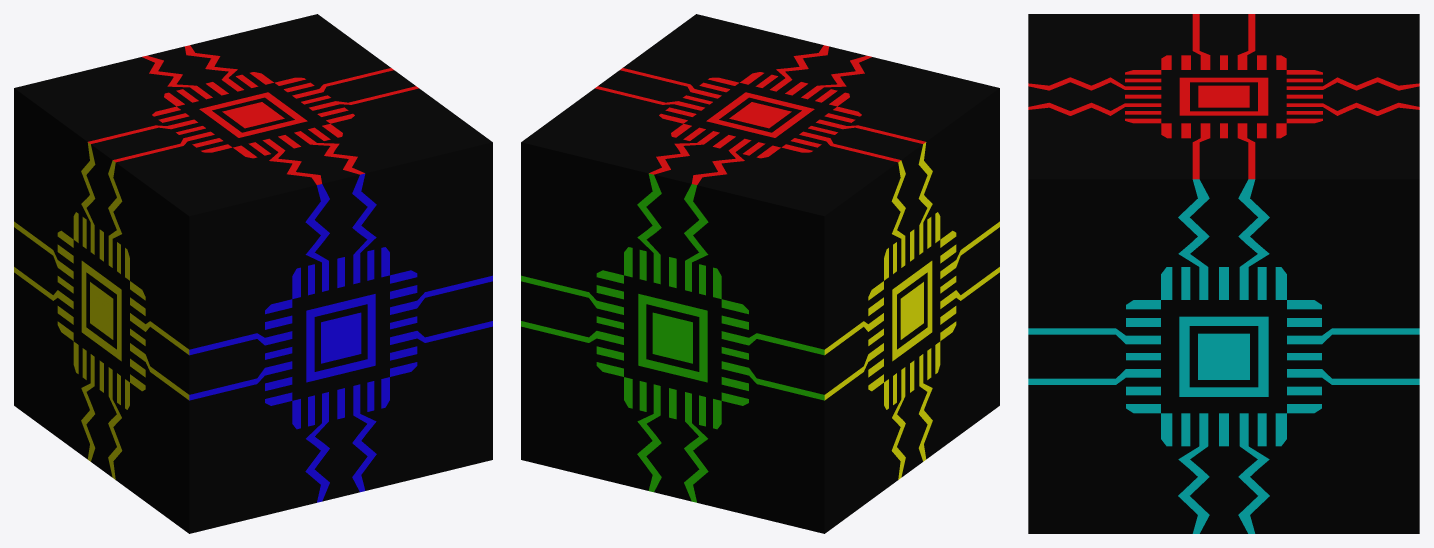
The model's file is cubeD.glb.
3 renders of one model, left to right at view 1: azimuth 30°, elevation 25°; view 2: azimuth 150°, elevation 25°; view 3: azimuth 270°, elevation 25°, orthographic. The views are drawn at different scales.
Parts seen in each view (by area): view 1: CubeCircuits; view 2: CubeCircuits; view 3: CubeCircuits.
Boxes of the visible parts, box(x1,y1,x2,y2) form: CubeCircuits: box(14, 14, 492, 533); CubeCircuits: box(521, 14, 999, 533); CubeCircuits: box(1028, 14, 1419, 533).
Bounding box in the file's own units: 1 × 1 × 1.
